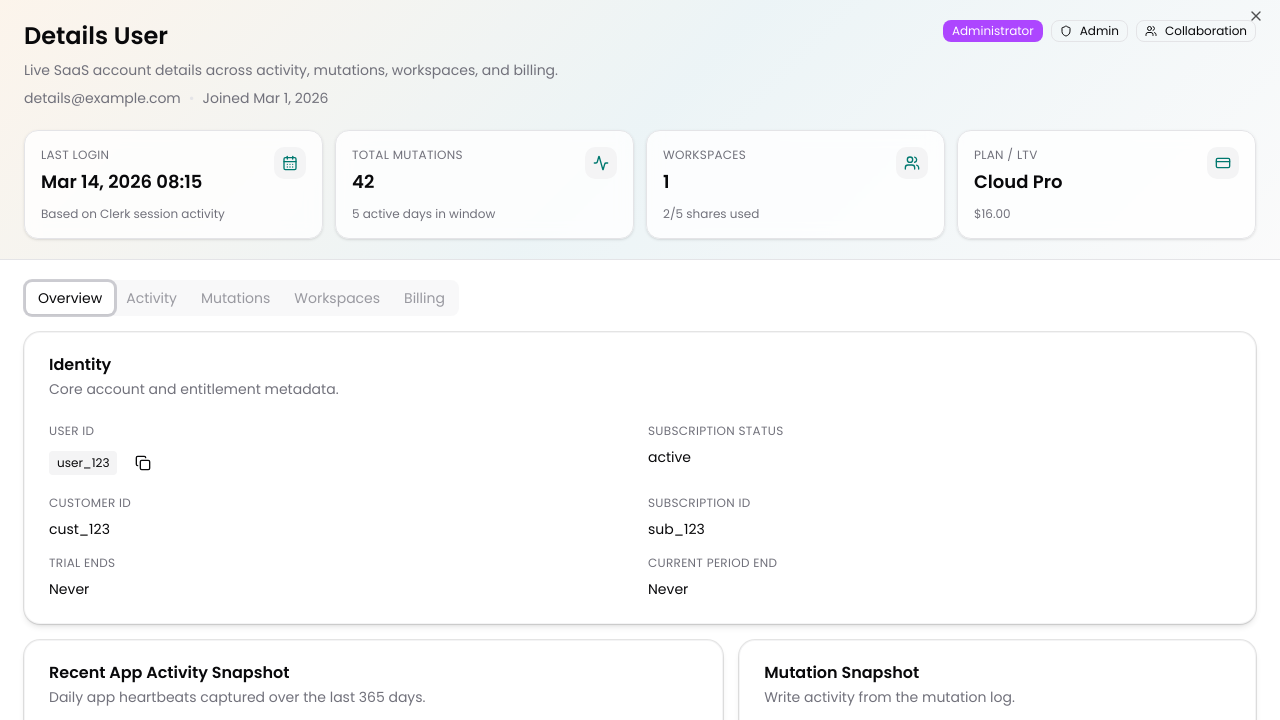
Test: UserDetailsDialog › renders live detail sections and section errors
This screenshot has width=1280, height=720.
Check: the text "Recent App Activity Snapshot" is shown, box [49,660,289,684]
Check: the text "Cloud Pro" is shown, box [974,171,1062,194]
Click the tab "Activity".
click(152, 298)  # box [114,282,189,314]
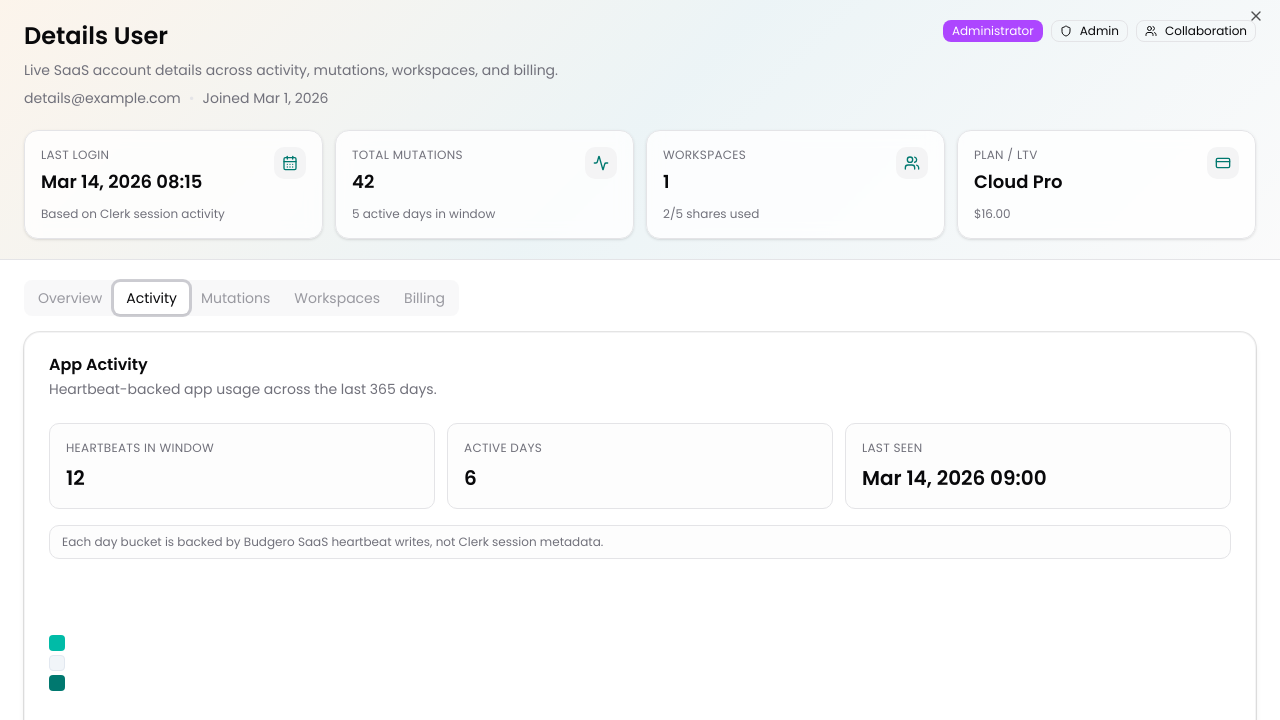
Check: the text "App Activity" is shown, box [49,352,148,376]
Click the tab "Workspaces".
click(337, 298)  # box [282,282,392,314]
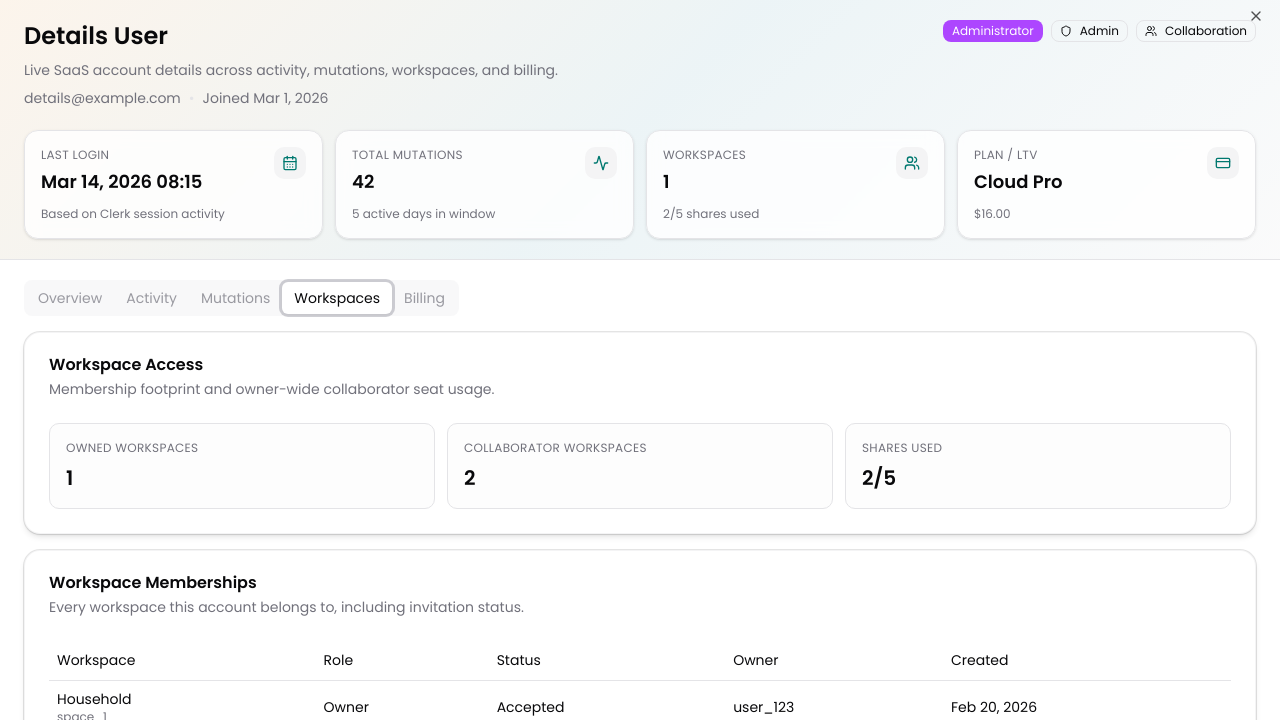
Check: the text "Household" is shown, box [57,689,131,709]
